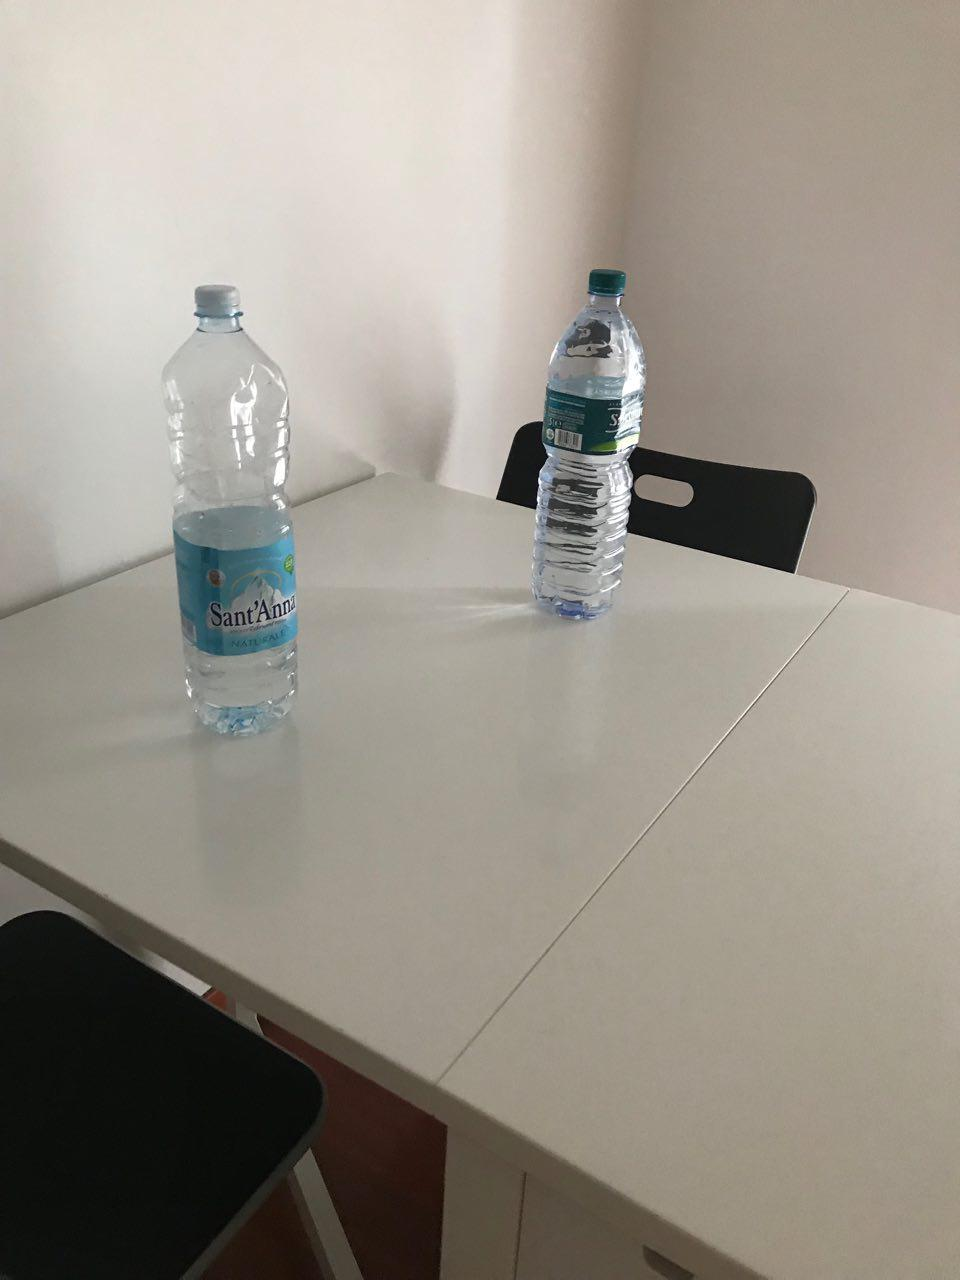san_bernardo: (530, 268, 646, 620)
